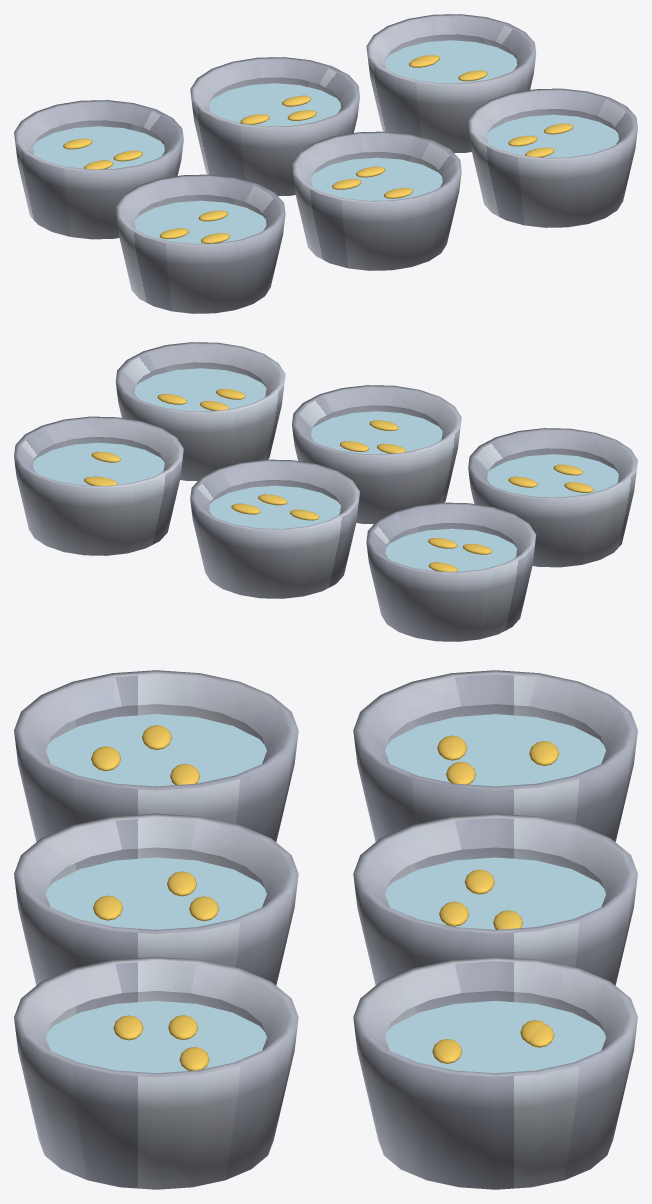
Rendered from gourd-prop-bowls.glb.
The picture shows the model from 3 angles, top to bottom: view 1: azimuth 30°, elevation 25°; view 2: azimuth 150°, elevation 25°; view 3: azimuth 270°, elevation 25°; orthographic projection. The views are drawn at different scales.
Visible parts, largest first — view 1: bowls.001, water, petals; view 2: bowls.001, water, petals; view 3: bowls.001, water, petals.
Part boxes in pixels (left/top/right/bottom): bowls.001: left=14, top=14, right=637, bottom=313; water: left=33, top=40, right=618, bottom=243; petals: left=63, top=55, right=573, bottom=243; bowls.001: left=14, top=342, right=637, bottom=641; water: left=33, top=368, right=618, bottom=571; petals: left=84, top=389, right=593, bottom=571; bowls.001: left=14, top=670, right=637, bottom=1189; water: left=46, top=714, right=605, bottom=1073; petals: left=91, top=725, right=559, bottom=1070.
Bounding box in the file's own units: 0.0721 × 0.0113 × 0.0467.
3 materials, 1 textured.
